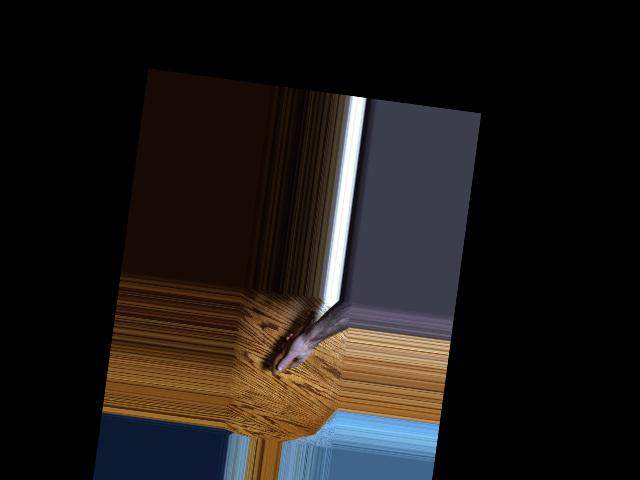sweet_potato: (272, 304, 319, 376)
